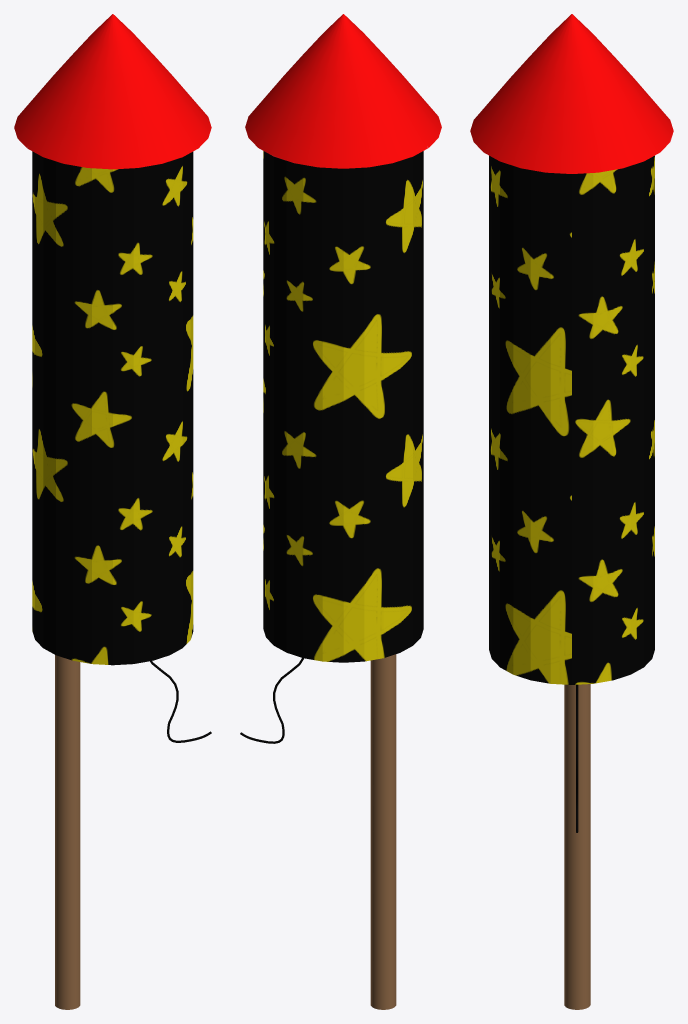
File: firecracker_test.fbx
The picture shows the model from 3 angles, left to right: view 1: azimuth 30°, elevation 25°; view 2: azimuth 150°, elevation 25°; view 3: azimuth 270°, elevation 25°; orthographic projection. The views are drawn at different scales.
Visible parts, largest first — view 1: Cone006; view 2: Cone006; view 3: Cone006.
Boxes of the visible parts, bbox=[...] form: Cone006: bbox=[14, 14, 211, 1009]; Cone006: bbox=[240, 14, 441, 1009]; Cone006: bbox=[470, 14, 673, 1009].
Size of the model in its own units: 56.52 by 284 by 51.81.
